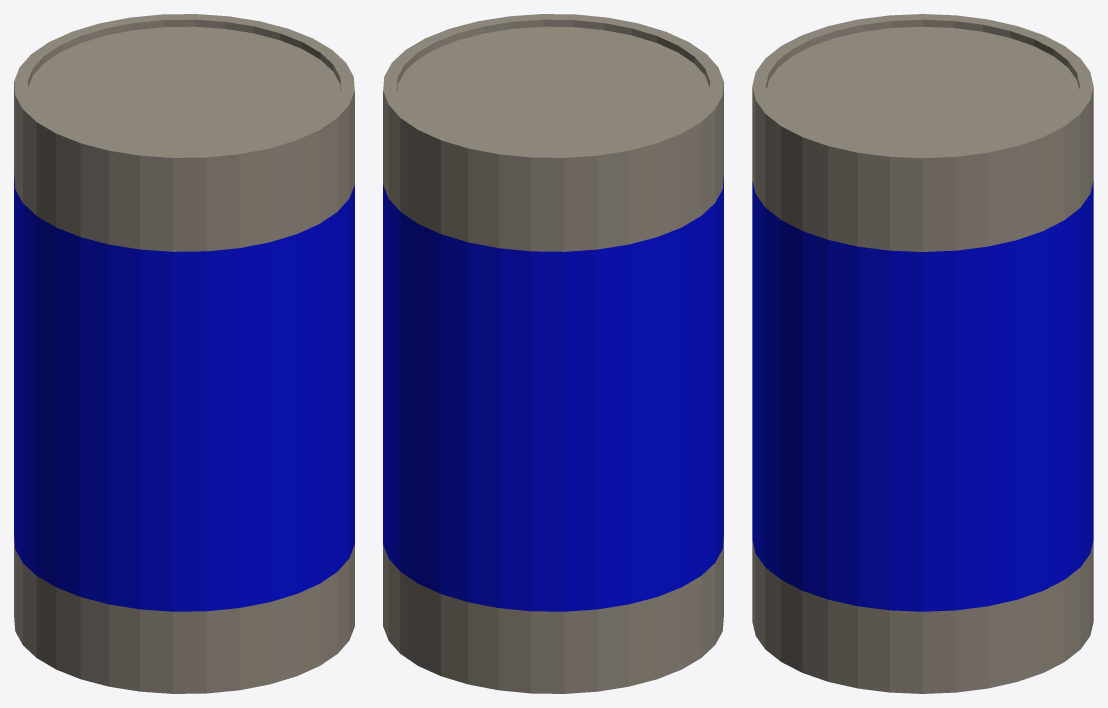
File: RefrescoB.fbx
The picture shows the model from 3 angles, left to right: view 1: azimuth 30°, elevation 25°; view 2: azimuth 150°, elevation 25°; view 3: azimuth 270°, elevation 25°; orthographic projection.
Visible parts, largest first — view 1: Cylinder; view 2: Cylinder; view 3: Cylinder.
Boxes of the visible parts, bbox=[...] form: Cylinder: bbox=[14, 14, 354, 693]; Cylinder: bbox=[383, 14, 723, 693]; Cylinder: bbox=[752, 14, 1093, 693].
Bounding box in the file's own units: 3.33 × 5.76 × 3.33.
